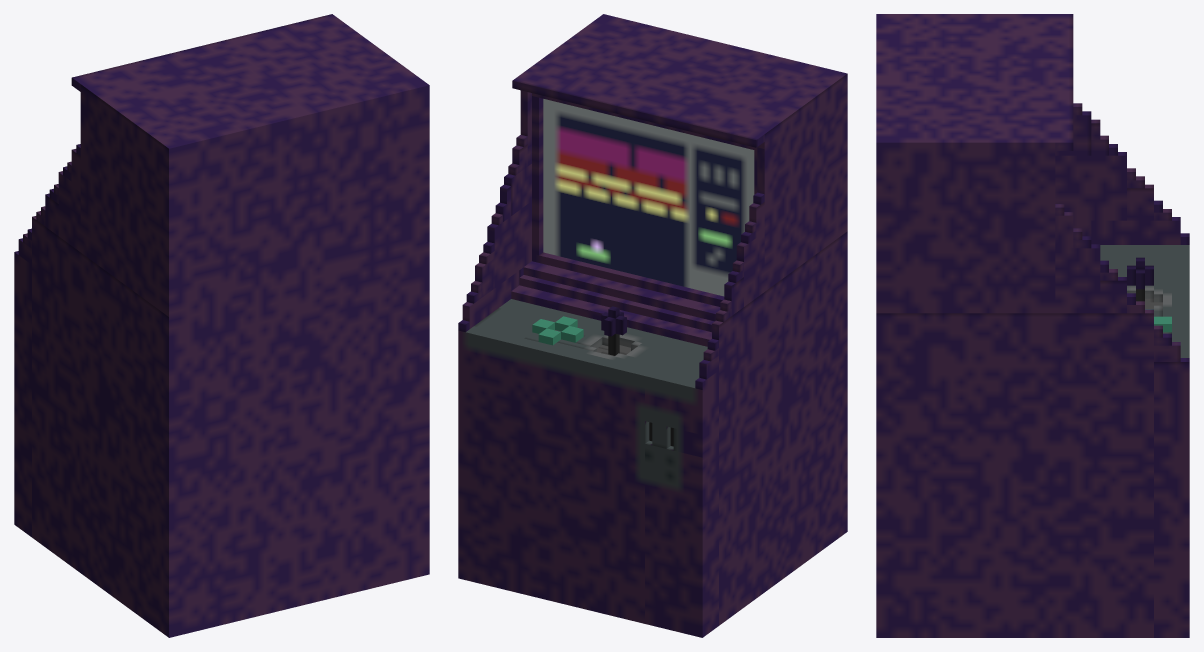
The picture shows the model from 3 angles, left to right: view 1: azimuth 30°, elevation 25°; view 2: azimuth 150°, elevation 25°; view 3: azimuth 270°, elevation 25°; orthographic projection. The views are drawn at different scales.
Parts seen in each view (by area): view 1: Content; view 2: Content; view 3: Content.
Part boxes in pixels (x1=…): Content: x1=14, y1=14, x2=429, y2=637; Content: x1=458, y1=14, x2=847, y2=637; Content: x1=876, y1=14, x2=1189, y2=637.
Size of the model in its own units: 34 by 61 by 35.
Materials: 1 (1 with a texture image).
